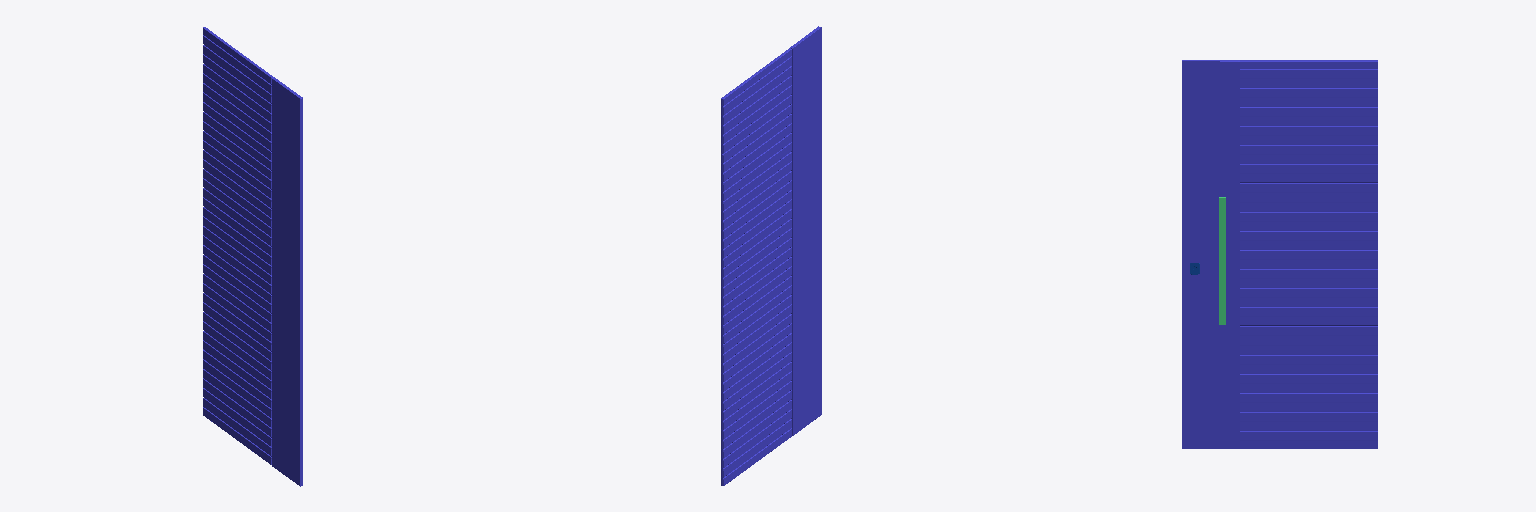
Rendered from Frameless-Door.obj.
3 views of the same model, side by side, from view 1: azimuth 30°, elevation 25°; view 2: azimuth 150°, elevation 25°; view 3: azimuth 270°, elevation 25° (orthographic).
Visible parts, largest first — view 1: Door_F; view 2: Door_F; view 3: Door_F, Handle.
Boxes of the visible parts, box(x1,y1,x2,y2) form: Door_F: box(203, 27, 302, 486); Door_F: box(721, 26, 821, 485); Door_F: box(1182, 60, 1377, 448); Handle: box(1219, 197, 1225, 324).
Bounding box in the file's own units: 2.22 × 88.98 × 40.68.